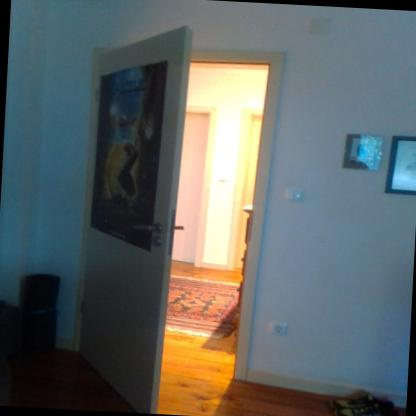semi: (70, 35, 279, 415)
